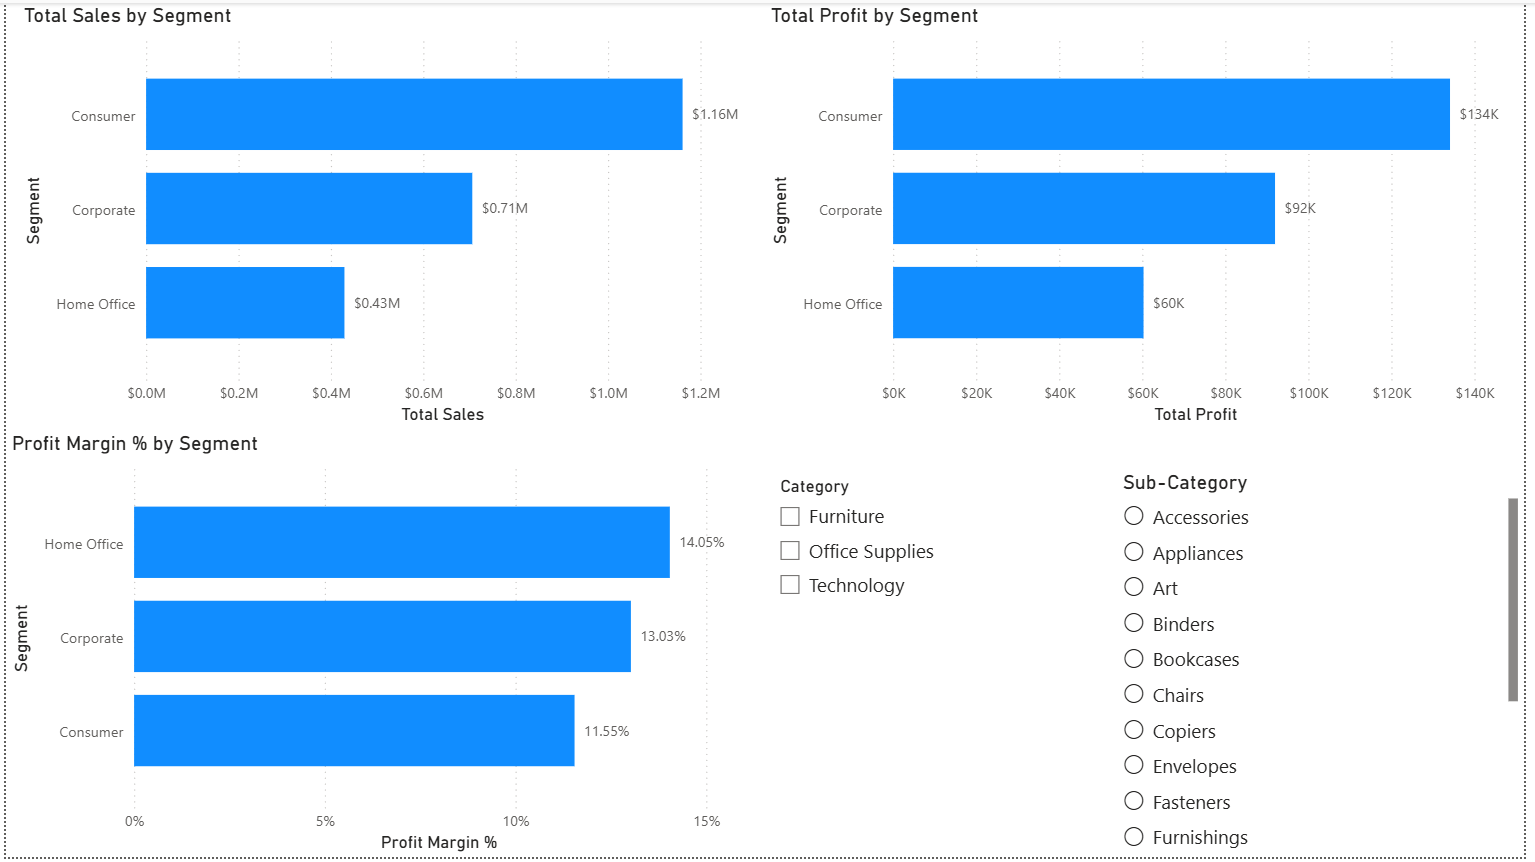

Layout of this report page (visuals, bound fields, positions):
{"tool":"powerbi","page":{"name":"Segment Performance ","canvas":[1280,720],"ordinal":1},"visuals":[{"type":"clusteredBarChart","title":"Total Sales by Segment","fields":{"Category":["RawData.Segment"],"Y":["Sum(RawData.Sales)"]},"box":[9.7,0,630.3,359.9],"z":0},{"type":"clusteredBarChart","title":"Total Profit by Segment","fields":{"Y":["Sum(RawData.Profit)"],"Category":["RawData.Segment"]},"box":[639.5,0,640.5,359.7],"z":1000},{"type":"clusteredBarChart","title":"Profit Margin % by Segment","fields":{"Y":["RawData.Profit Margin %"],"Category":["RawData.Segment"]},"box":[0,360.7,639.5,359.7],"z":2000},{"type":"slicer","fields":{"Values":["RawData.Category"]},"box":[639.5,394.7,296.8,325.7],"z":3000},{"type":"listSlicer","fields":{"Values":["RawData.Sub-Category"]},"box":[936.7,393.9,343.3,325.8],"z":4000}]}

Visuals, with their boxes in screenshot pixels (x1, y1, x2, y2), scaled from the page's 1280x720 canvas onto the 1535x862 screenshot:
"Total Sales by Segment" clusteredBarChart: bbox=(12, 0, 768, 431)
"Total Profit by Segment" clusteredBarChart: bbox=(767, 0, 1534, 431)
"Profit Margin % by Segment" clusteredBarChart: bbox=(0, 432, 767, 861)
slicer - RawData.Category: bbox=(767, 473, 1123, 861)
listSlicer - RawData.Sub-Category: bbox=(1123, 472, 1534, 861)
